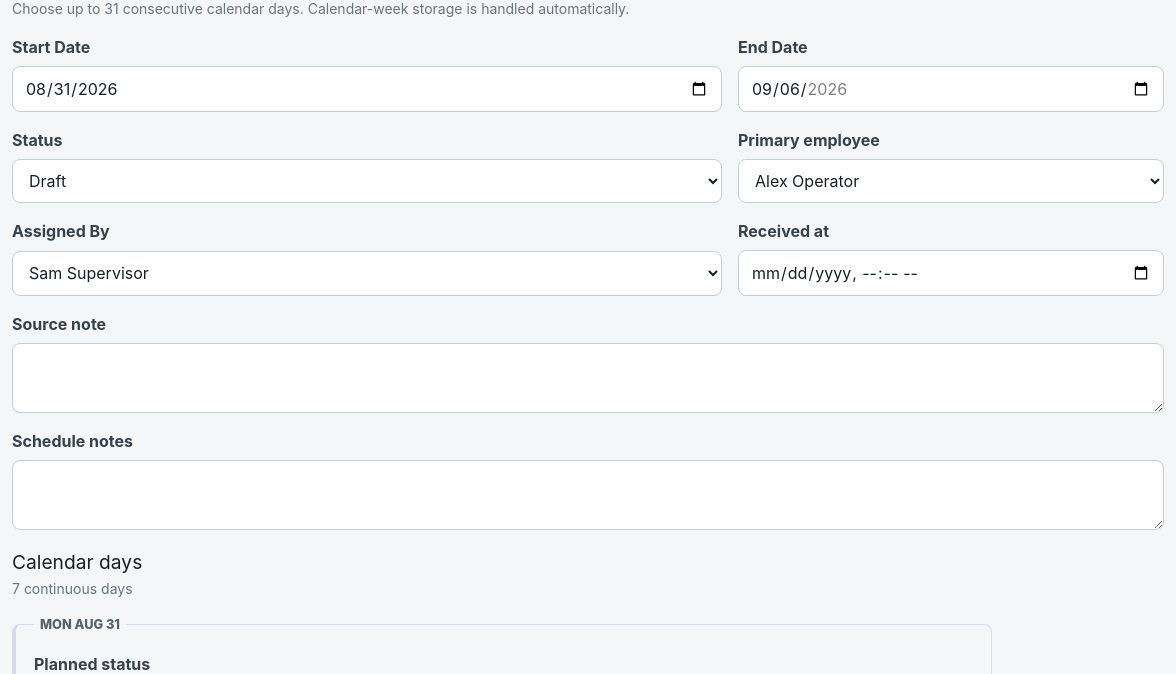
it: ScheduleRangeForm › hydrates persisted adjacent-week assignments when End Date is extended
Type "2026-09-08" into the date field labelled "End Date". click: point(951, 89)
box: [738,66,1164,112]
(page scrolled)
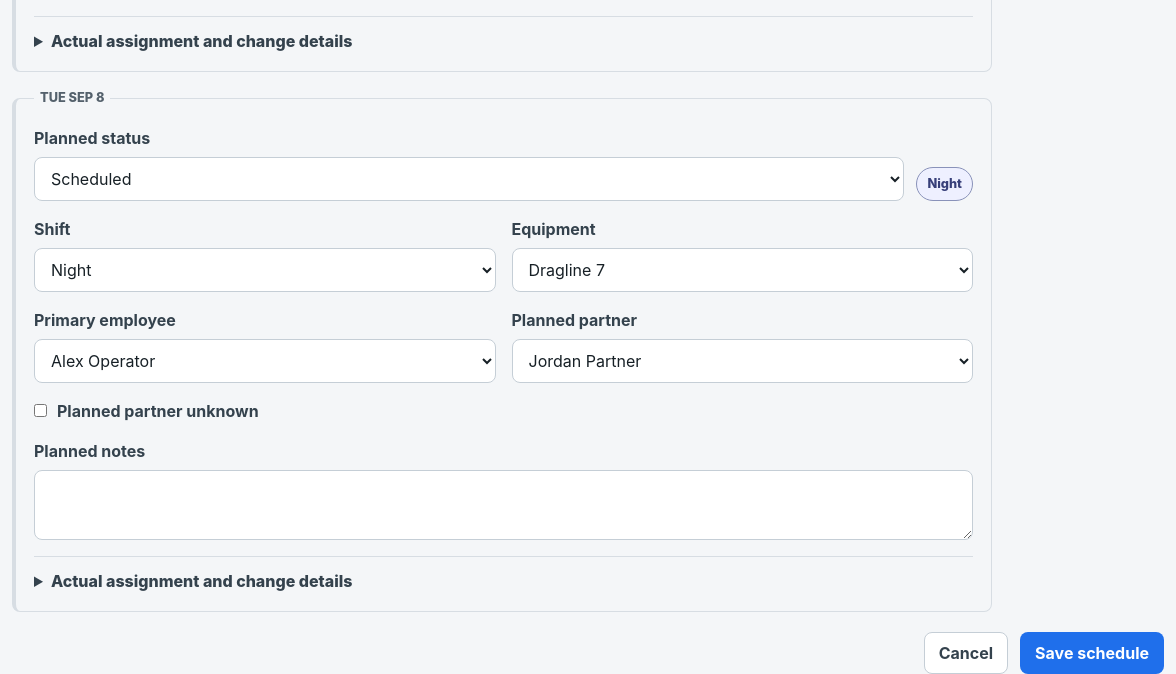
Result: the dropdown labelled "Planned partner" shows "Jordan Partner" at [512,339,973,383]
